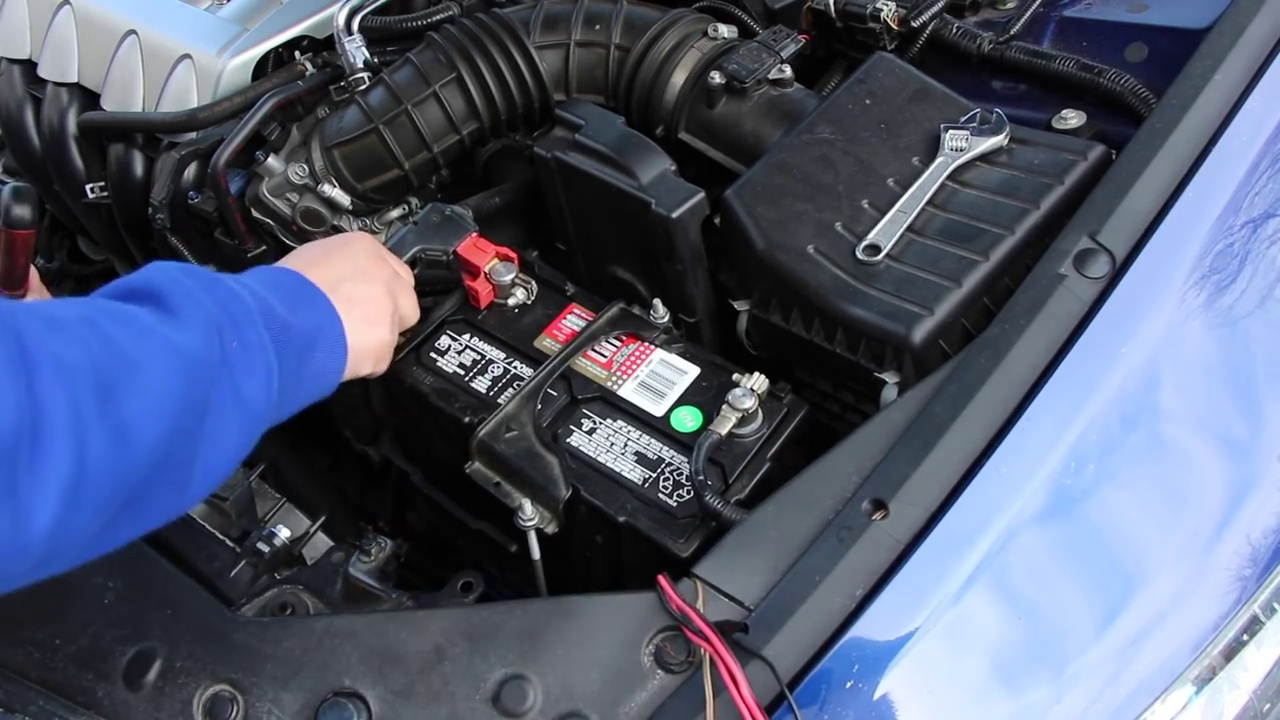battery: (366, 236, 805, 551)
neg_connected: (696, 362, 790, 460)
pos_connected: (428, 185, 549, 320)
pos_touched: (333, 171, 536, 353)
